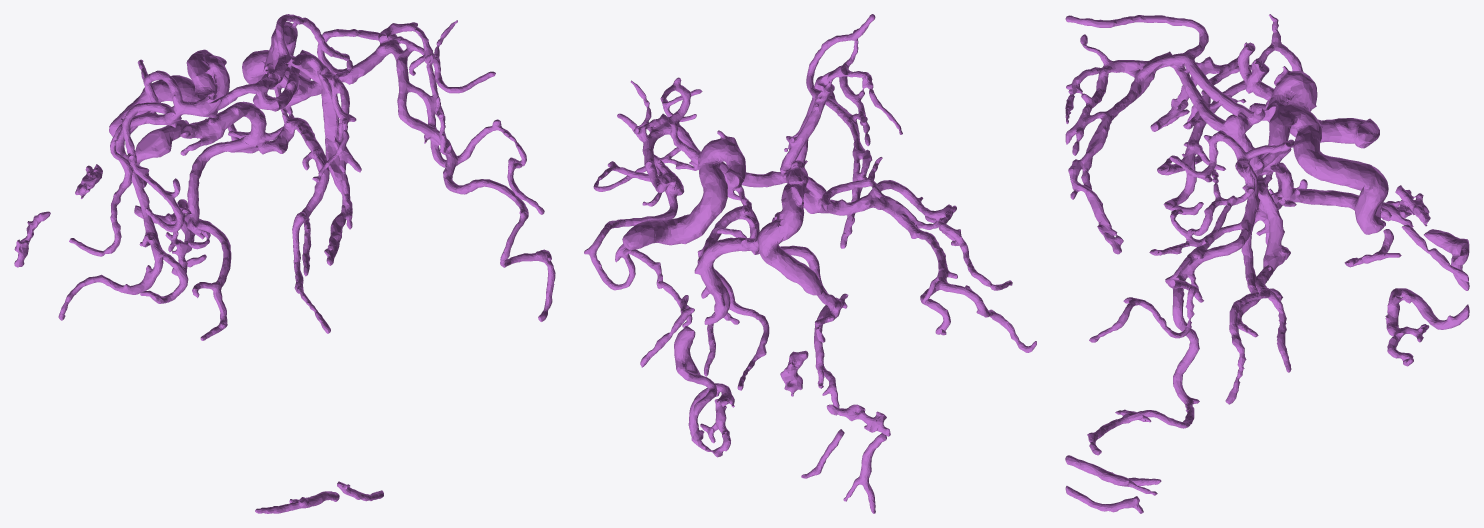
File: vessel_tree.glb
3 views of the same model, side by side, from view 1: azimuth 30°, elevation 25°; view 2: azimuth 150°, elevation 25°; view 3: azimuth 270°, elevation 25° (orthographic). The views are drawn at different scales.
Visible parts, largest first — view 1: world; view 2: world; view 3: world.
Boxes of the visible parts, x1,y1,x2,y2 form: world: (14, 14, 555, 513); world: (584, 14, 1036, 513); world: (1065, 14, 1469, 513).
Size of the model in its own units: 137 by 135 by 100.
